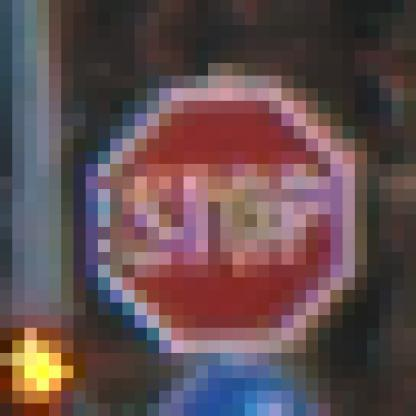Stop: (104, 96, 353, 348)
